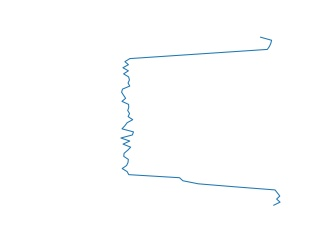distributaryChannelFill: (115, 36, 288, 205)
